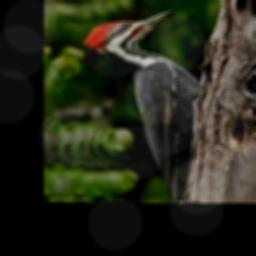Woodpecker: (83, 10, 203, 203)
